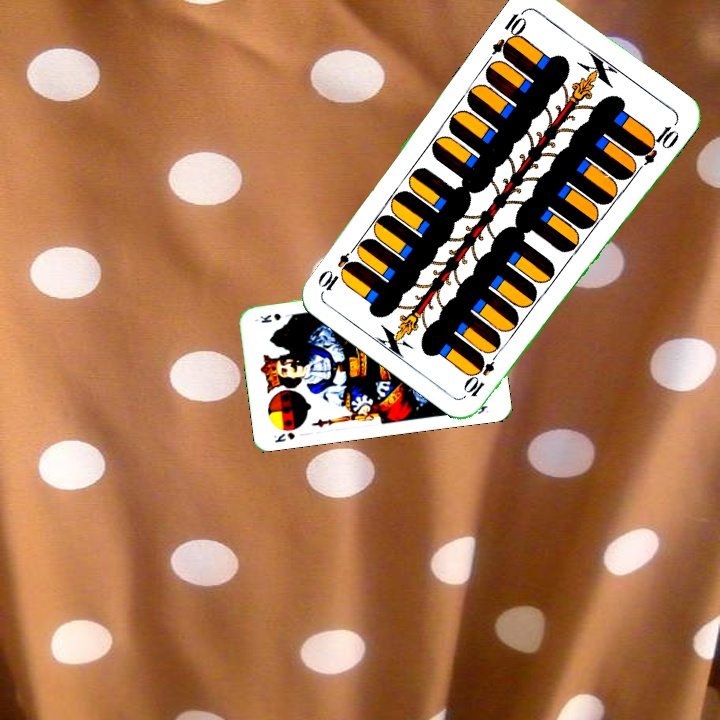E10: (488, 5, 530, 62), (461, 345, 503, 400)
SK: (269, 428, 297, 445)
